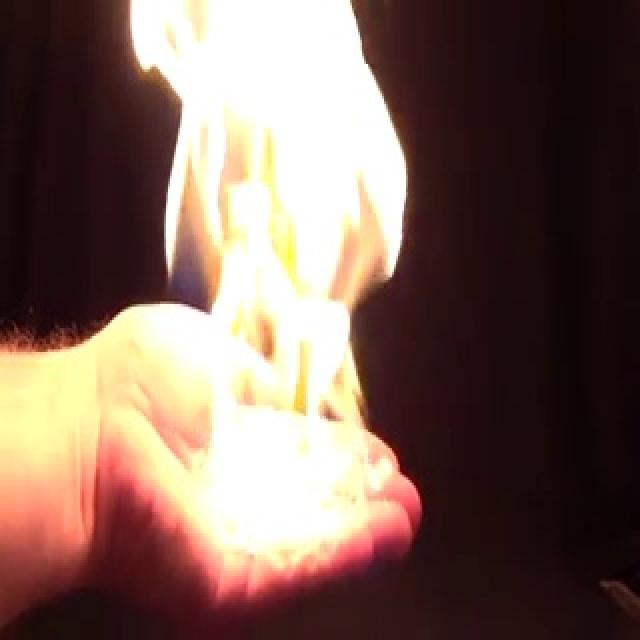fire: (120, 0, 418, 531)
